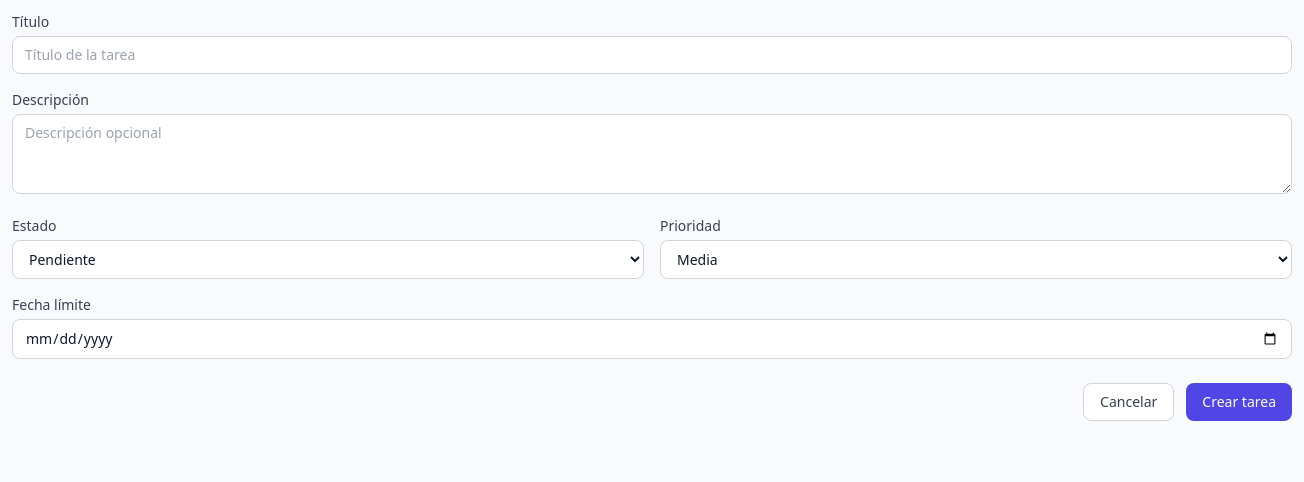
TaskForm › valida título vacío
What coordinates should you click on to do the following:
click the button "Crear tarea"
I would click on:
 (1239, 402)
Its box is [1186,383,1292,421].
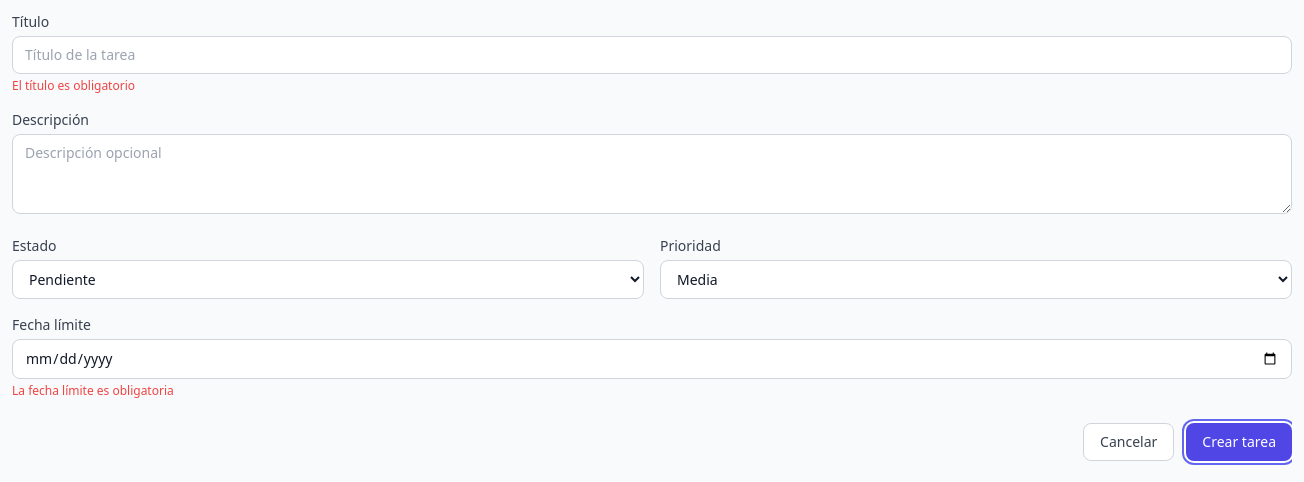
Now the text "El título es obligatorio" is shown, box [12,77,135,94]
